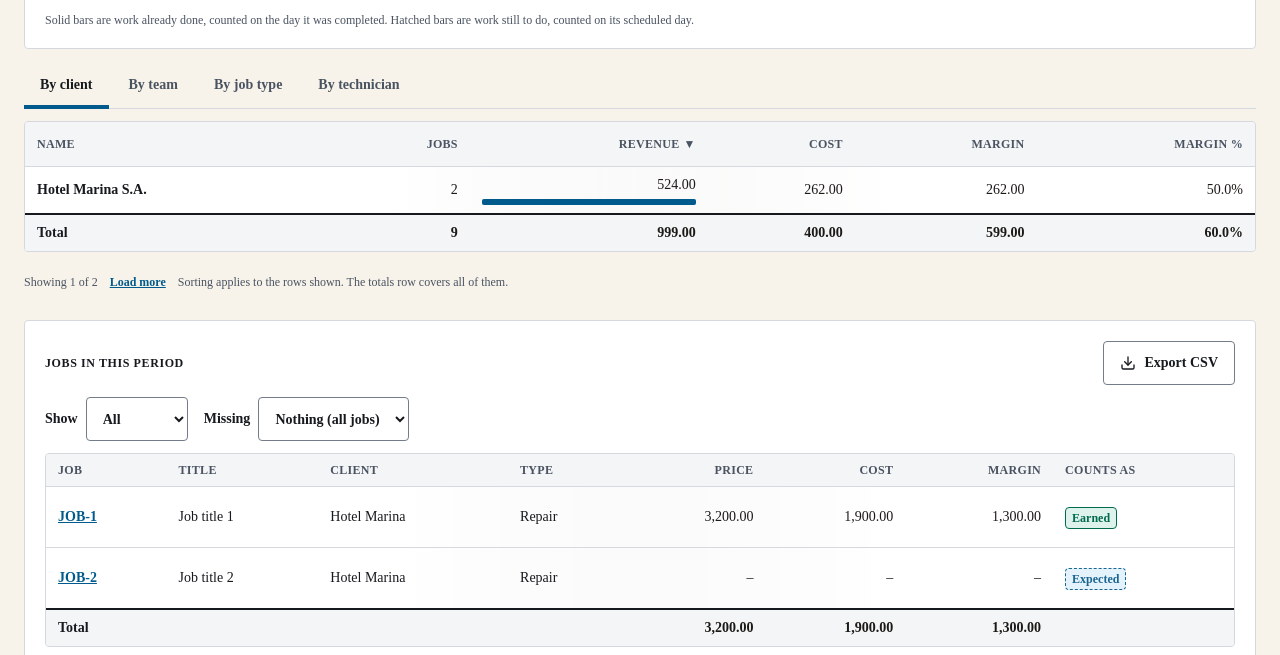
Test: breakdown paging › Load more fetches the next page of groups with the API's nextOffset; the totals row stays the API's
(page scrolled)
Expected: the column heading "Hotel Marina S.A." is shown, [25,167,340,214]
Expected: the text "Showing 1 of 2" is shown, [24,274,98,290]
Click the button "Load more" next to "Showing 1 of 2": (138, 282) [110,260,166,304]
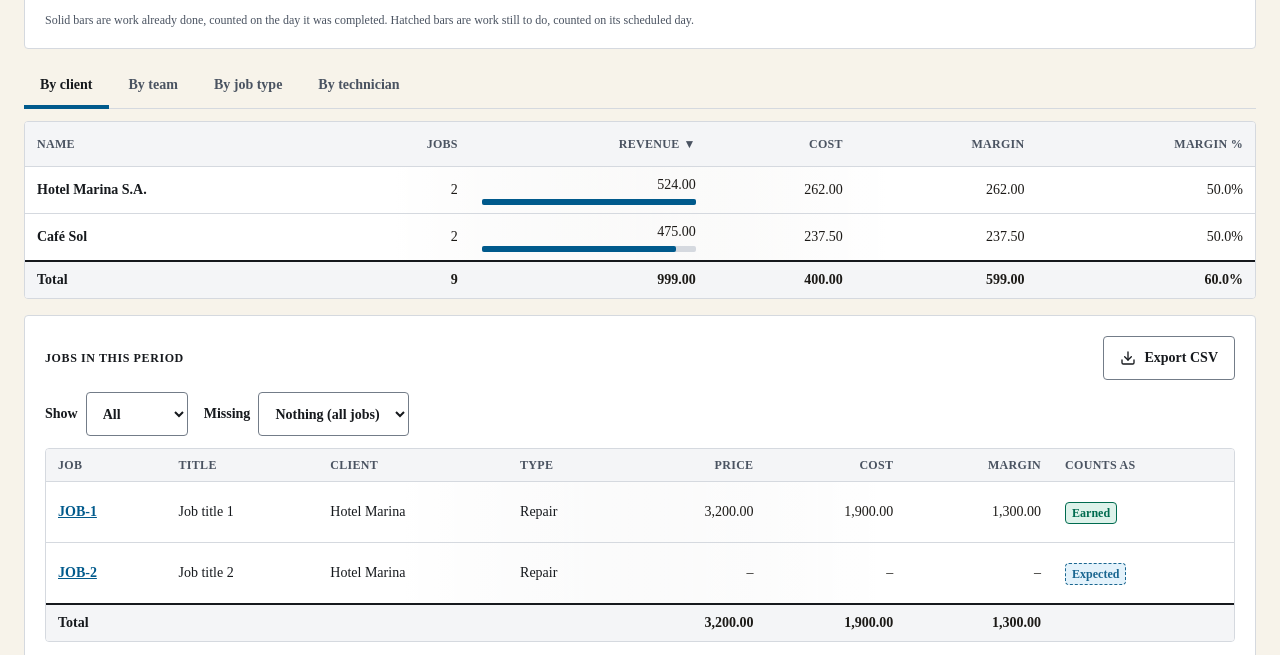
Result: the column heading "Café Sol" is shown at [25,214,340,261]
